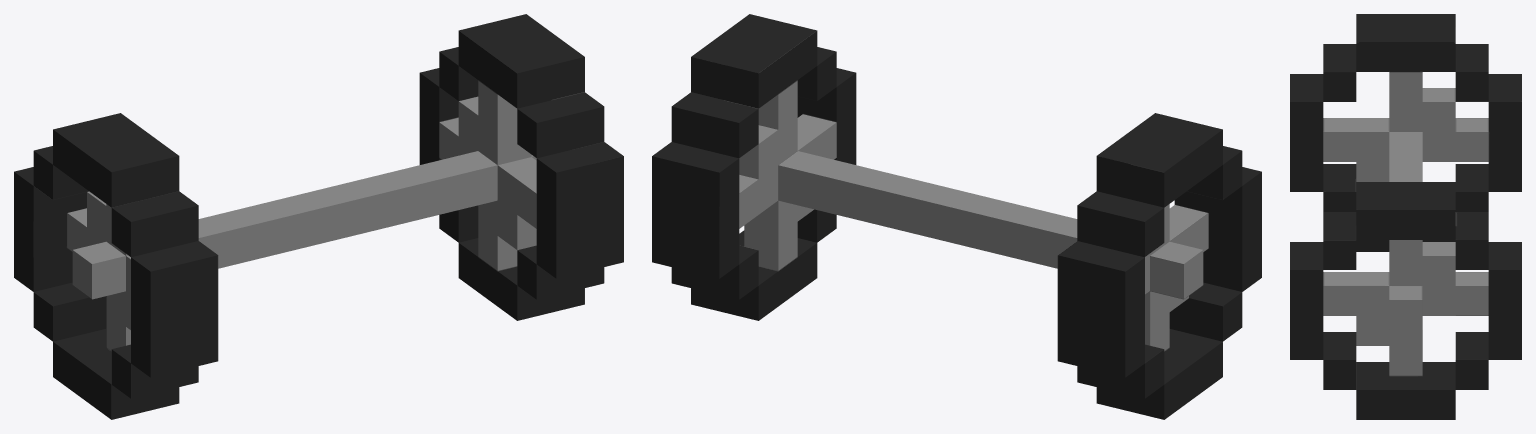
Rendered from Trailer_Rim.obj.
3 renders of one model, left to right at view 1: azimuth 30°, elevation 25°; view 2: azimuth 150°, elevation 25°; view 3: azimuth 270°, elevation 25°, orthographic. The views are drawn at different scales.
Parts seen in each view (by area): view 1: Trailer_Rim_Trailer_Rim.001; view 2: Trailer_Rim_Trailer_Rim.001; view 3: Trailer_Rim_Trailer_Rim.001.
Part boxes in pixels (left/top/right/bottom): Trailer_Rim_Trailer_Rim.001: left=14, top=14, right=623, bottom=419; Trailer_Rim_Trailer_Rim.001: left=652, top=14, right=1261, bottom=419; Trailer_Rim_Trailer_Rim.001: left=1290, top=14, right=1521, bottom=419.
Size of the model in its own units: 2.8 by 1.4 by 1.4.
